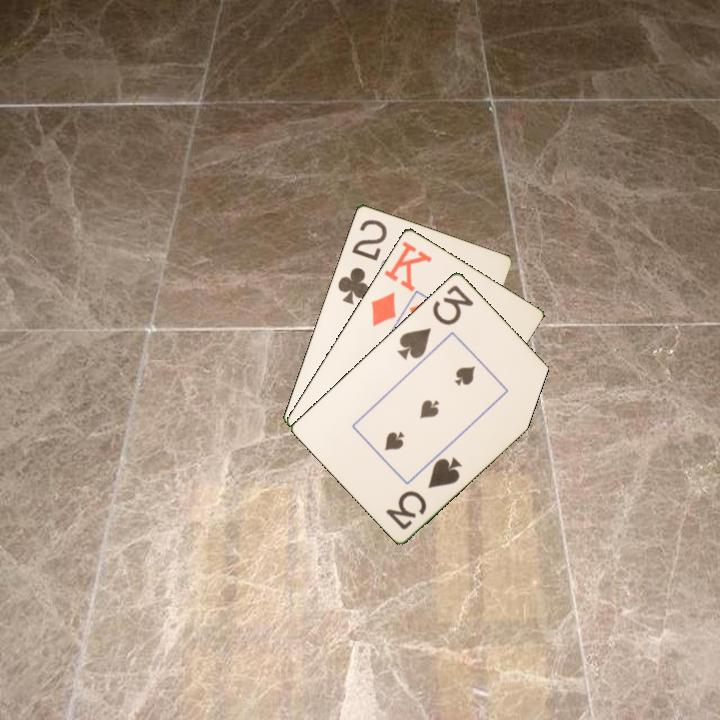2c: (334, 215, 390, 307)
3s: (394, 281, 477, 363), (382, 452, 465, 532)
Kd: (367, 237, 435, 329)
